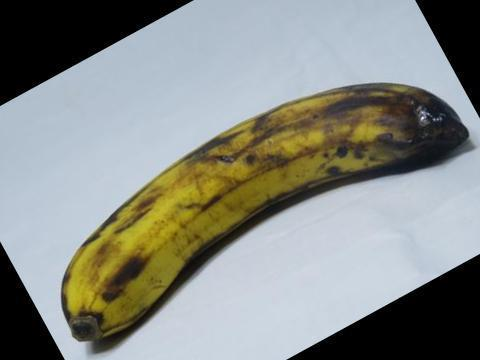overripe: (49, 65, 473, 358)
